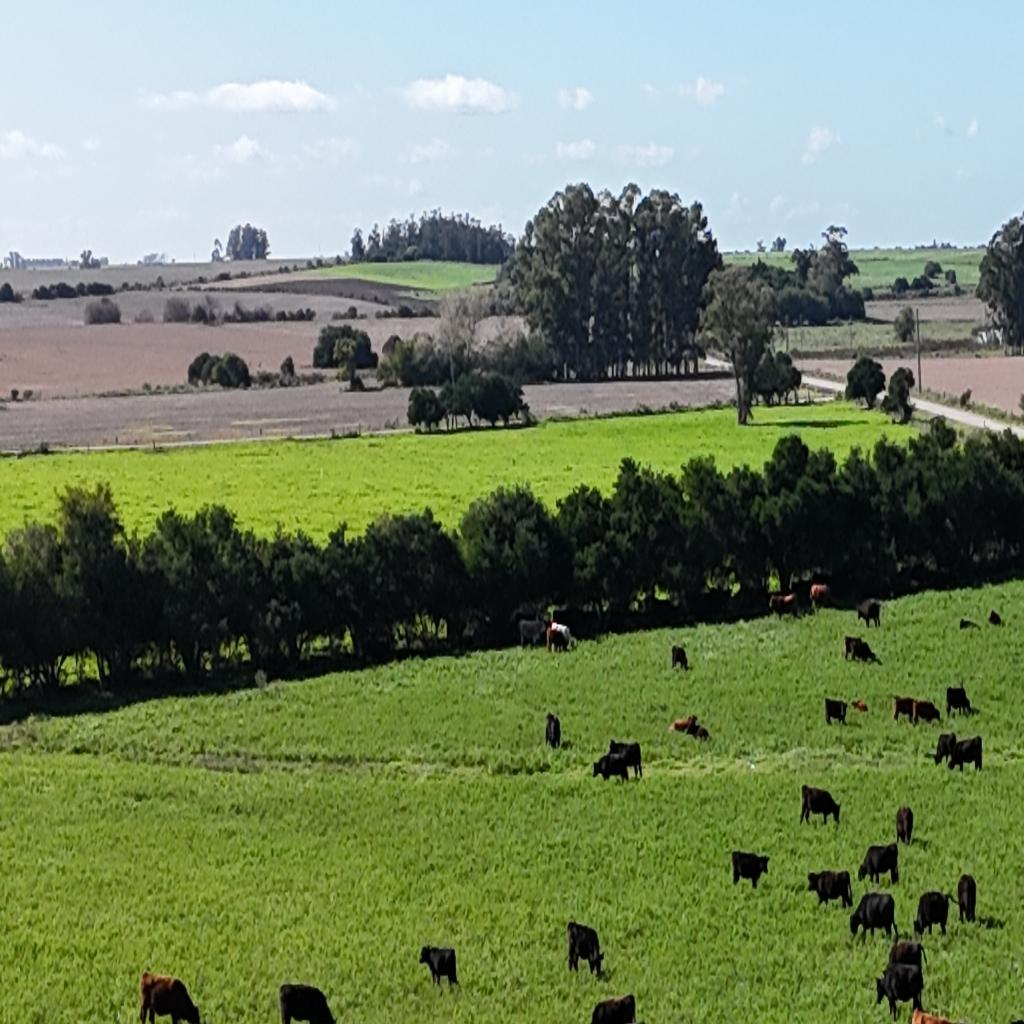cow: (139, 972, 201, 1024), (874, 961, 924, 1019), (849, 892, 899, 944), (278, 981, 338, 1024), (566, 920, 604, 978), (914, 892, 956, 940), (418, 943, 460, 989), (858, 842, 900, 887), (797, 784, 838, 829), (808, 870, 852, 910), (887, 936, 928, 973), (731, 851, 769, 889), (944, 735, 982, 773), (608, 740, 642, 780), (591, 994, 635, 1024), (957, 874, 977, 924), (844, 636, 879, 664), (945, 684, 973, 718), (910, 1006, 962, 1024), (518, 618, 547, 650), (930, 732, 957, 766), (788, 576, 816, 608), (768, 592, 798, 621), (546, 623, 574, 653), (890, 695, 918, 725), (911, 700, 941, 726), (896, 805, 914, 846), (856, 600, 880, 630), (810, 582, 834, 612), (824, 697, 848, 726), (545, 712, 561, 750), (671, 714, 696, 734), (687, 722, 710, 742), (671, 645, 688, 671), (960, 618, 981, 630), (988, 610, 1002, 626), (851, 699, 868, 712)
